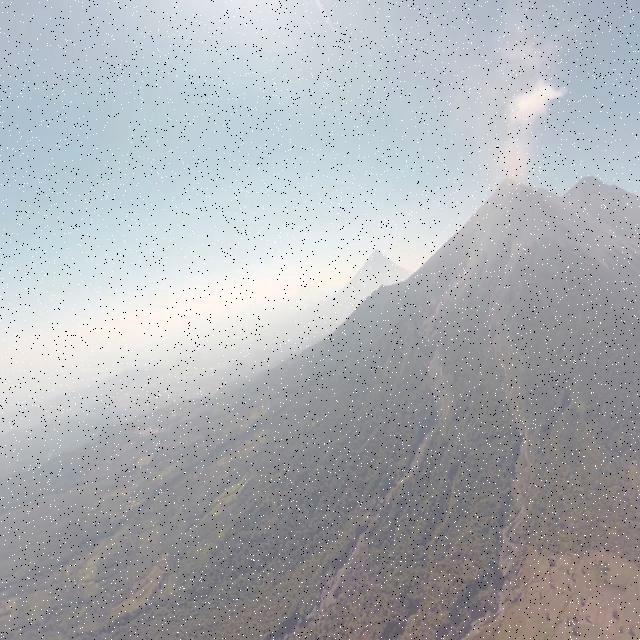Plume: (490, 77, 566, 188)
Summit: (494, 168, 536, 190)
